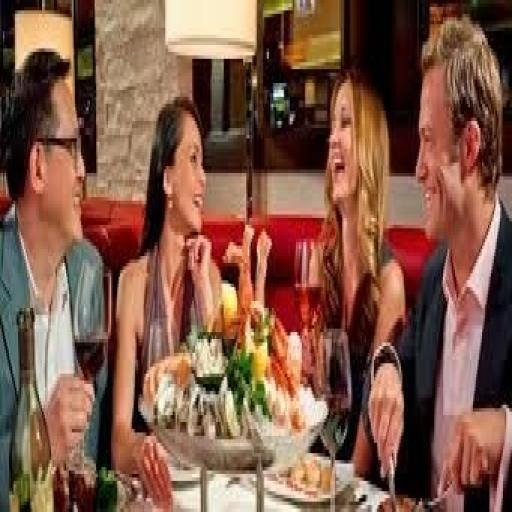eating: (358, 14, 510, 508), (110, 90, 273, 505), (0, 45, 113, 505)
